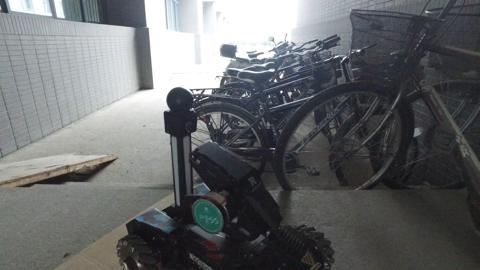bike: (213, 16, 472, 179)
chariot: (89, 90, 340, 264)
